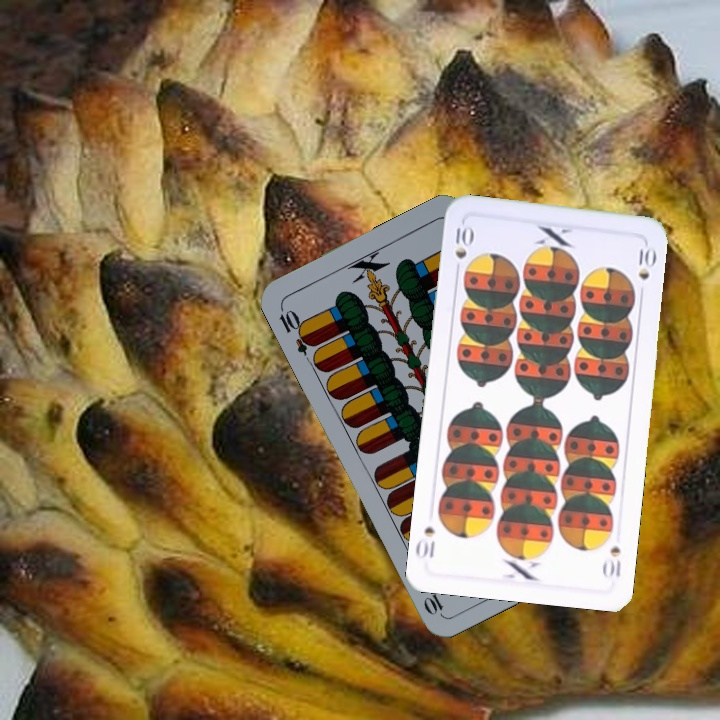E10: (275, 302, 318, 357)
S10: (451, 221, 475, 278), (599, 542, 624, 580)
